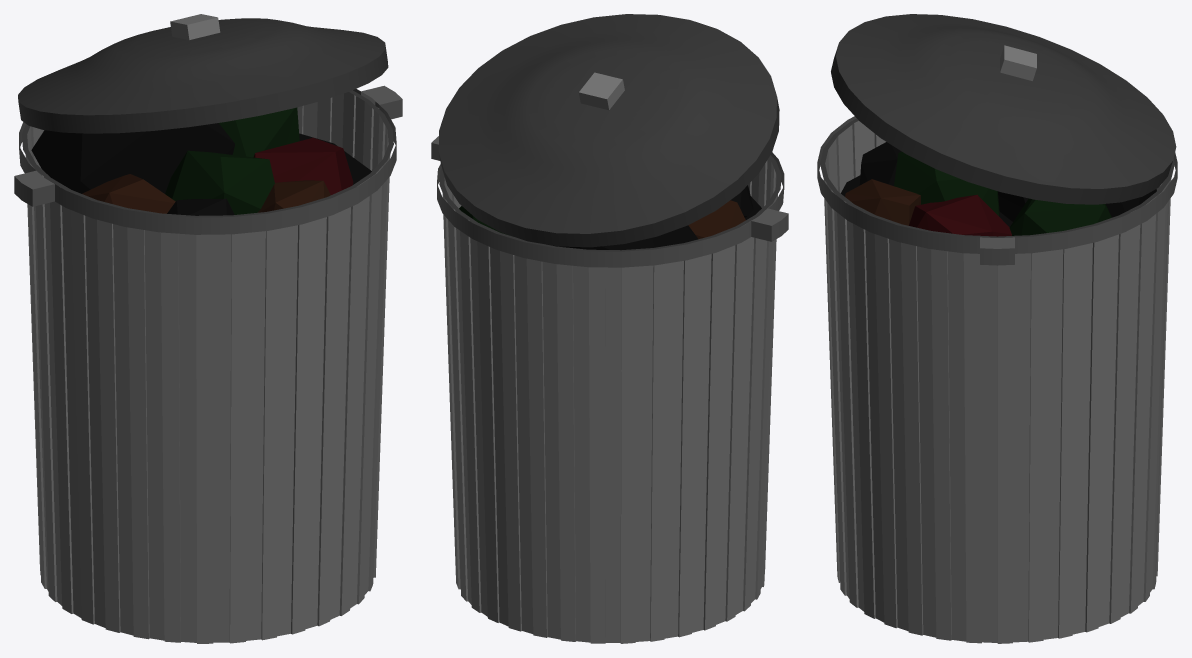
The model's file is TrashCan#2.fbx.
3 renders of one model, left to right at view 1: azimuth 30°, elevation 25°; view 2: azimuth 150°, elevation 25°; view 3: azimuth 270°, elevation 25°, orthographic. The views are drawn at different scales.
Visible parts, largest first — view 1: Icosphere.004; view 2: Icosphere.004; view 3: Icosphere.004.
Boxes of the visible parts, x1,y1,x2,y2 form: Icosphere.004: (14, 14, 402, 643); Icosphere.004: (431, 14, 788, 643); Icosphere.004: (817, 14, 1177, 643).
Size of the model in its own units: 260 by 366 by 228.
Materials: 5 (1 with a texture image).
